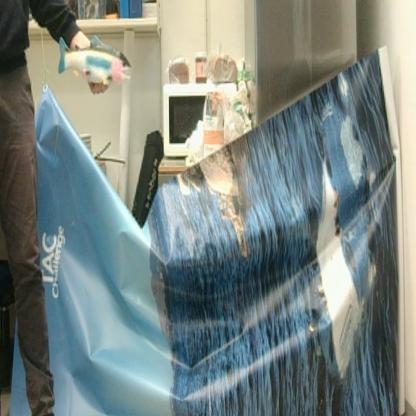rubberfish: (58, 35, 133, 85)
